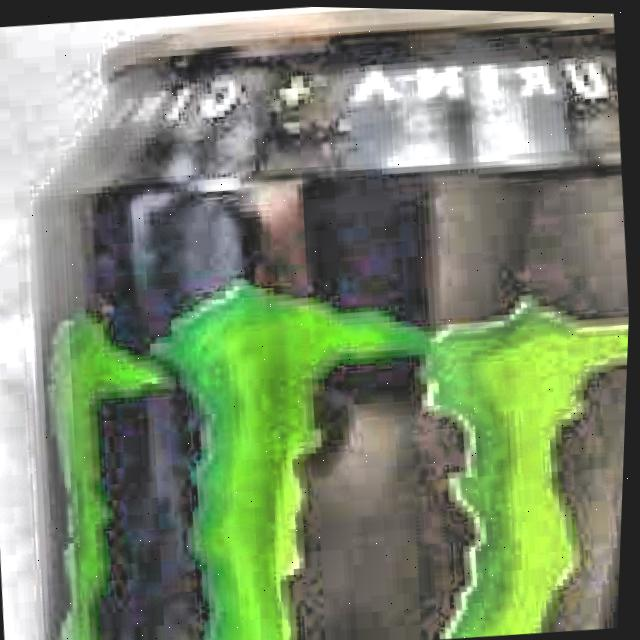metal: (31, 5, 631, 640)
